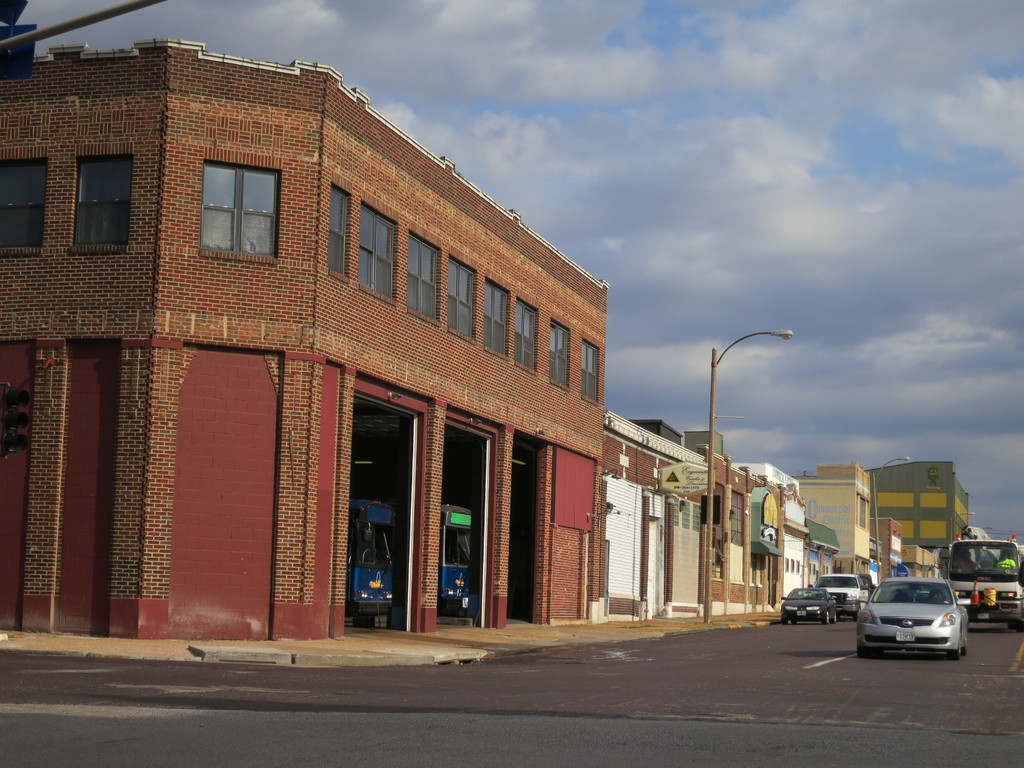mobil: (863, 575, 970, 666), (773, 585, 842, 632)
